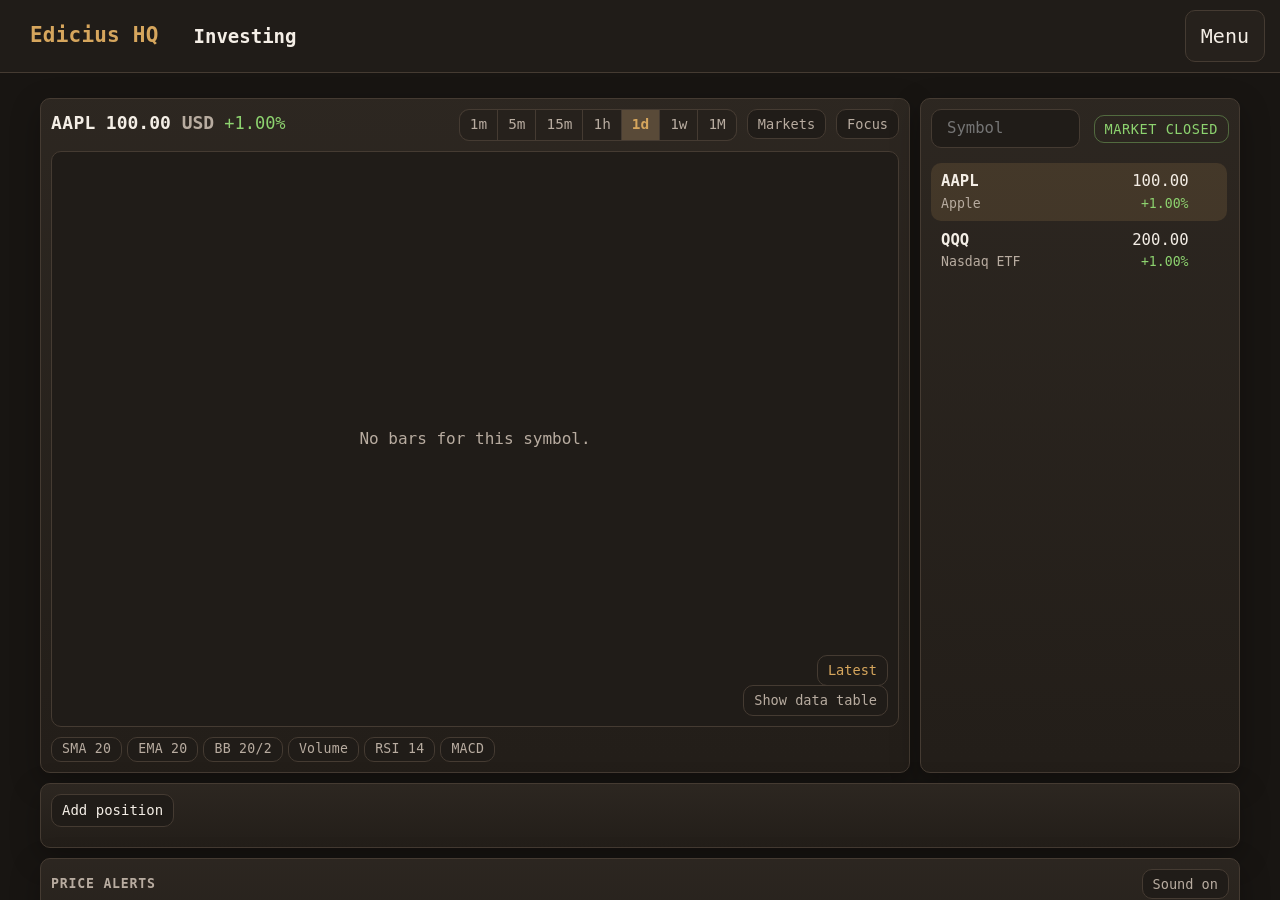
Test: Investing chart-first workspace › keeps watchlist prices visible when switching between followed stocks
Expected: the button "AAPL Apple 100.00 +1.00%" is shown, x1=931 y1=163 x2=1199 y2=221
Click the button "QQQ Nasdaq ETF 200.00 +1.00%": (981, 261) x1=931 y1=222 x2=1199 y2=279
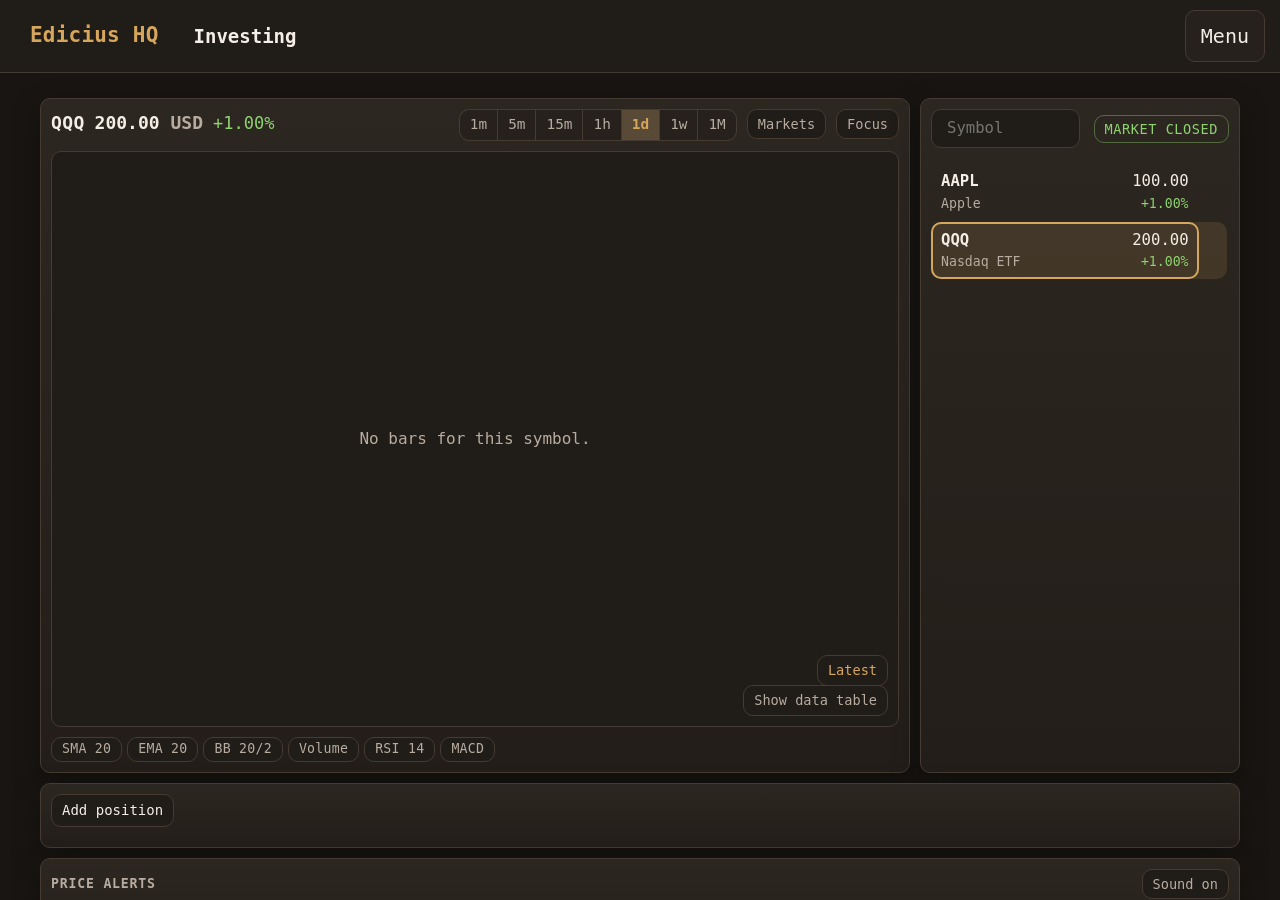
Expected: the button "AAPL Apple 100.00 +1.00%" is shown, x1=931 y1=163 x2=1199 y2=221
Expected: the element named "QQQ chart" is shown, x1=40 y1=98 x2=910 y2=773
